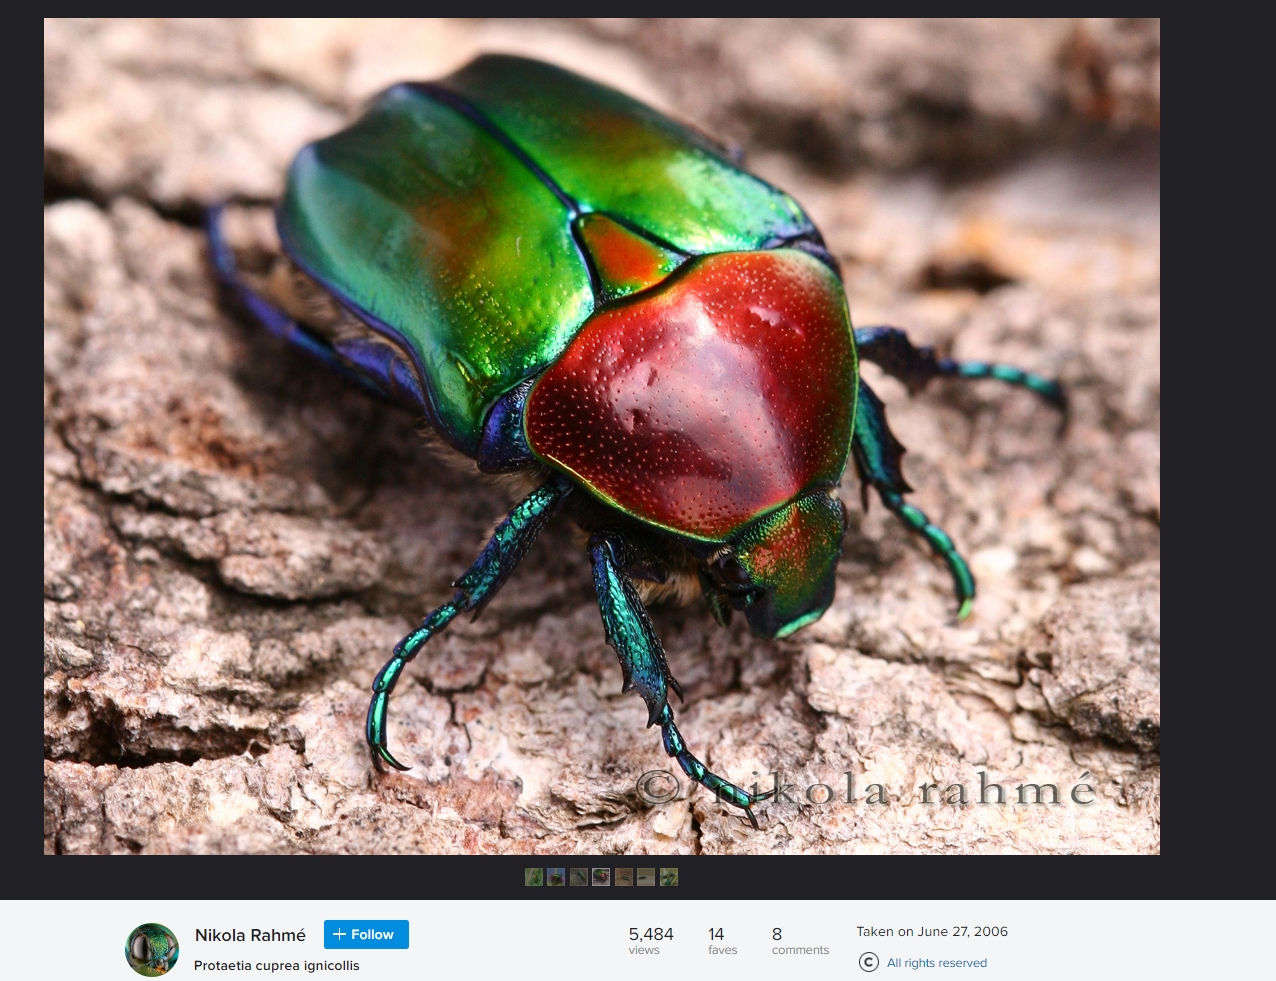Protaetia_cuprea_ignicollis: (190, 43, 988, 830)
